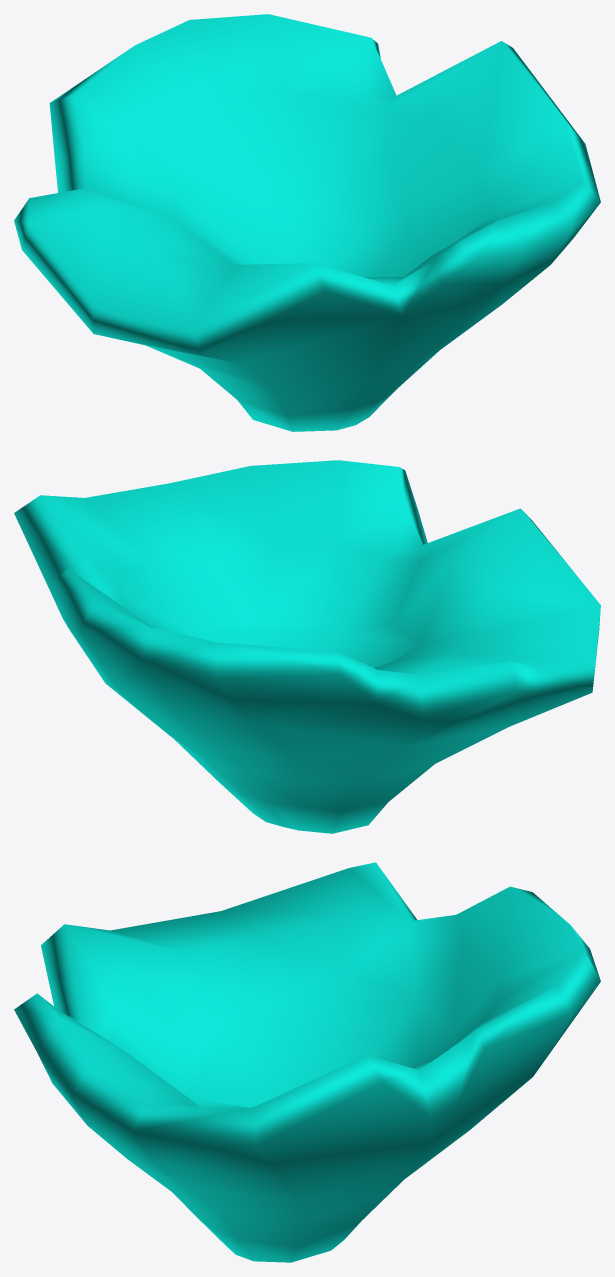
Rendered from geo_CorruptMushroom.fbx.
3 renders of one model, top to bottom at view 1: azimuth 30°, elevation 25°; view 2: azimuth 150°, elevation 25°; view 3: azimuth 270°, elevation 25°, orthographic. The views are drawn at different scales.
Parts seen in each view (by area): view 1: geo_EnemyCorrupt_L; view 2: geo_EnemyCorrupt_L; view 3: geo_EnemyCorrupt_L.
Boxes of the visible parts, x1,y1,x2,y2 form: geo_EnemyCorrupt_L: [14, 14, 600, 431]; geo_EnemyCorrupt_L: [14, 460, 600, 833]; geo_EnemyCorrupt_L: [14, 862, 600, 1262].
Bounding box in the file's own units: 115 × 60.39 × 107.
